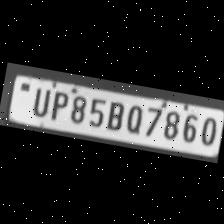0: (195, 111, 220, 146)
5: (84, 92, 107, 128)
6: (178, 108, 200, 143)
7: (138, 102, 162, 138)
8: (157, 105, 181, 142), (64, 90, 89, 125)
B: (102, 96, 125, 132)
P: (45, 86, 69, 120)
Q: (122, 100, 145, 134)
U: (27, 83, 51, 117)
